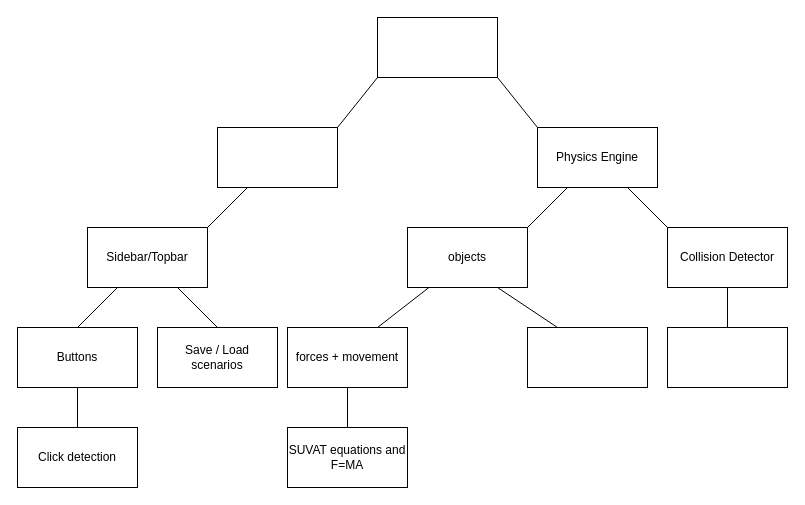
This 805x505 diagram has some shape labels left out. Here are the shapes that lost their labels. From the top down, the centre of each, then its label:
At (437,47): "Physics Simulator".
At (277,157): "Display".
At (587,357): "Properties e.g. mass".
At (727,357): "Object Interactions".
